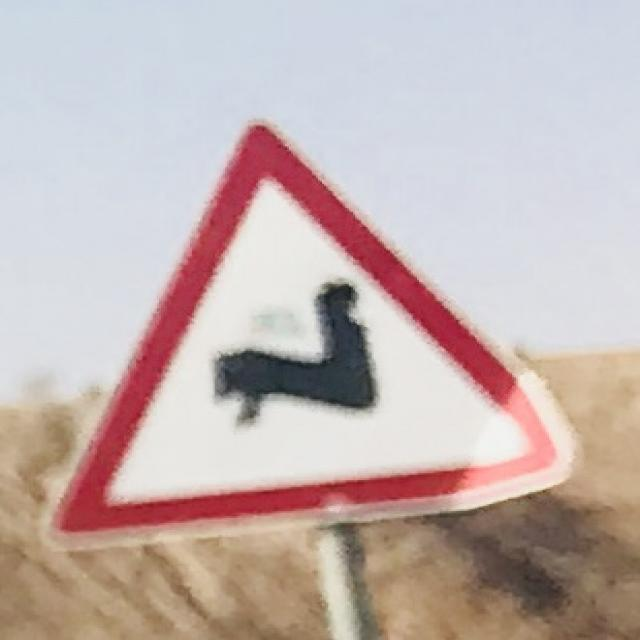right reverse bend: (46, 119, 572, 548)
